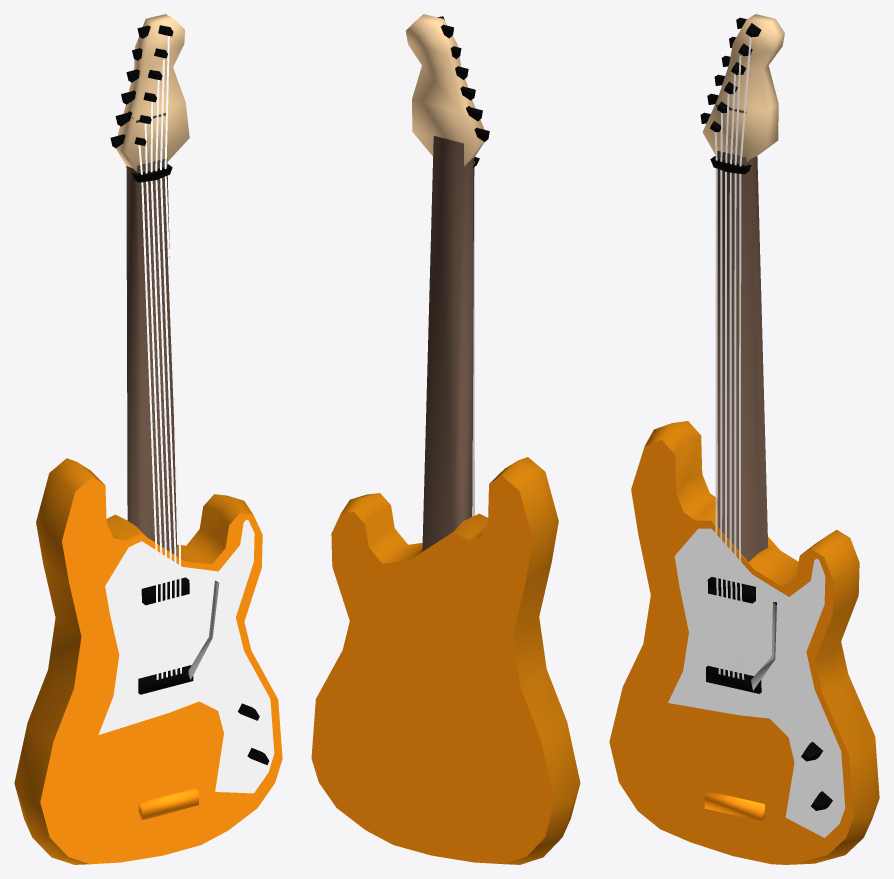
The model's file is GuitarElectricOrange.glb.
3 renders of one model, left to right at view 1: azimuth 30°, elevation 25°; view 2: azimuth 150°, elevation 25°; view 3: azimuth 330°, elevation 25°, orthographic.
Parts seen in each view (by area): view 1: GuitarElectricOrange; view 2: GuitarElectricOrange; view 3: GuitarElectricOrange.
Boxes of the visible parts, x1,y1,x2,y2 form: GuitarElectricOrange: [14, 14, 282, 864]; GuitarElectricOrange: [311, 14, 580, 864]; GuitarElectricOrange: [609, 14, 879, 864].
Bounding box in the file's own units: 0.4159 × 1.31 × 0.1052.
Materials: 1 (1 with a texture image).
